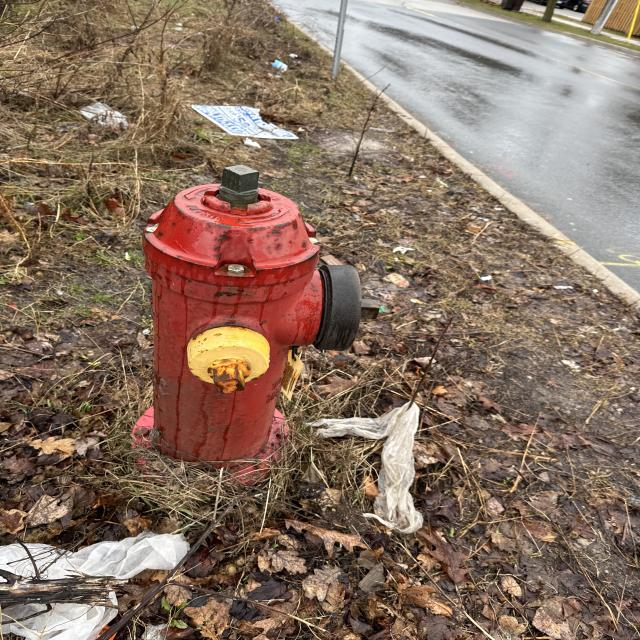Fire hydrant: (129, 165, 382, 490)
